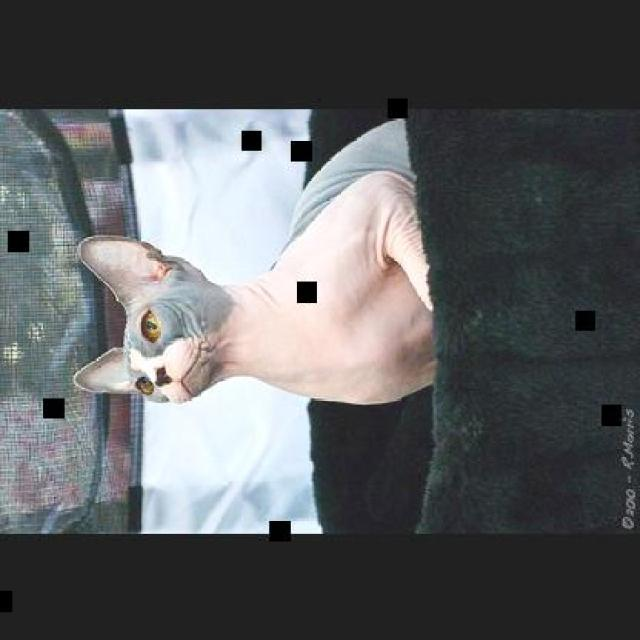unauthorized: (71, 230, 435, 408)
